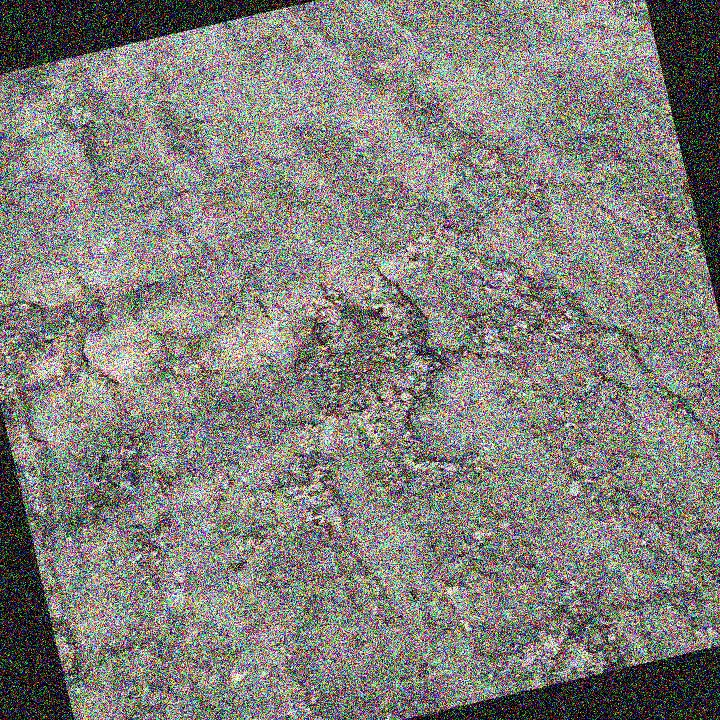pothole: (269, 269, 458, 456), (480, 595, 627, 697), (0, 278, 93, 393)
